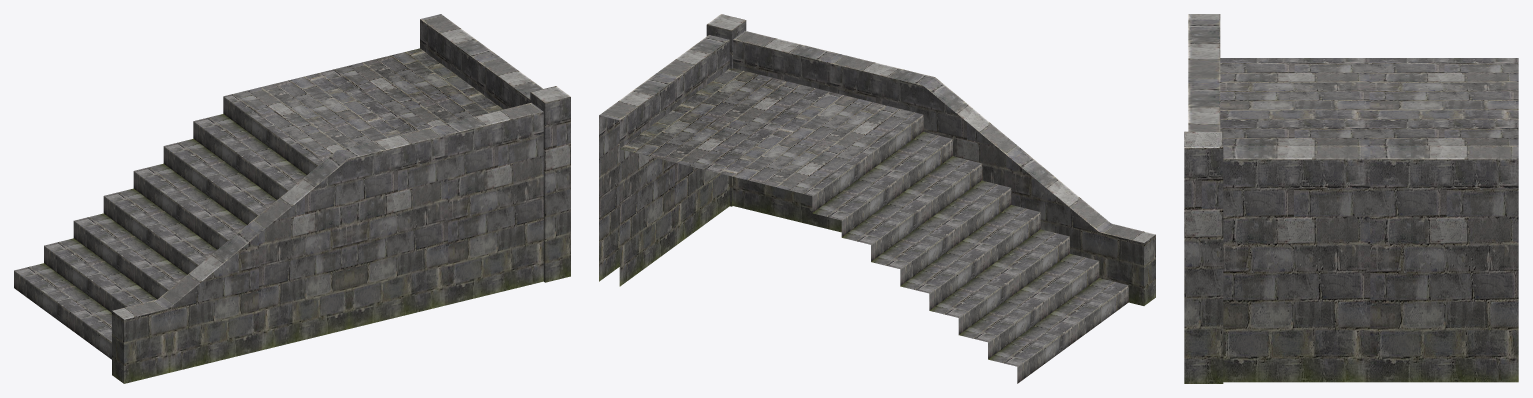
File: CastleHouseStairs.FBX
3 views of the same model, side by side, from view 1: azimuth 30°, elevation 25°; view 2: azimuth 150°, elevation 25°; view 3: azimuth 270°, elevation 25° (orthographic). The views are drawn at different scales.
Visible parts, largest first — view 1: CastleHouseStairs; view 2: CastleHouseStairs; view 3: CastleHouseStairs.
Part boxes in pixels (<box>): CastleHouseStairs: <box>14,14,570,383</box>; CastleHouseStairs: <box>599,14,1155,383</box>; CastleHouseStairs: <box>1184,14,1518,383</box>.
Bounding box in the file's own units: 1008 × 389 × 499.
